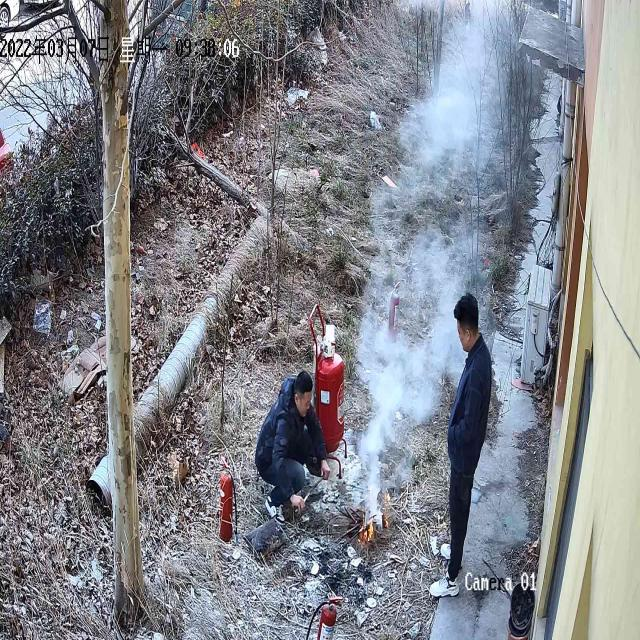Fire: (356, 494, 398, 548)
Smoke: (348, 0, 542, 493)
